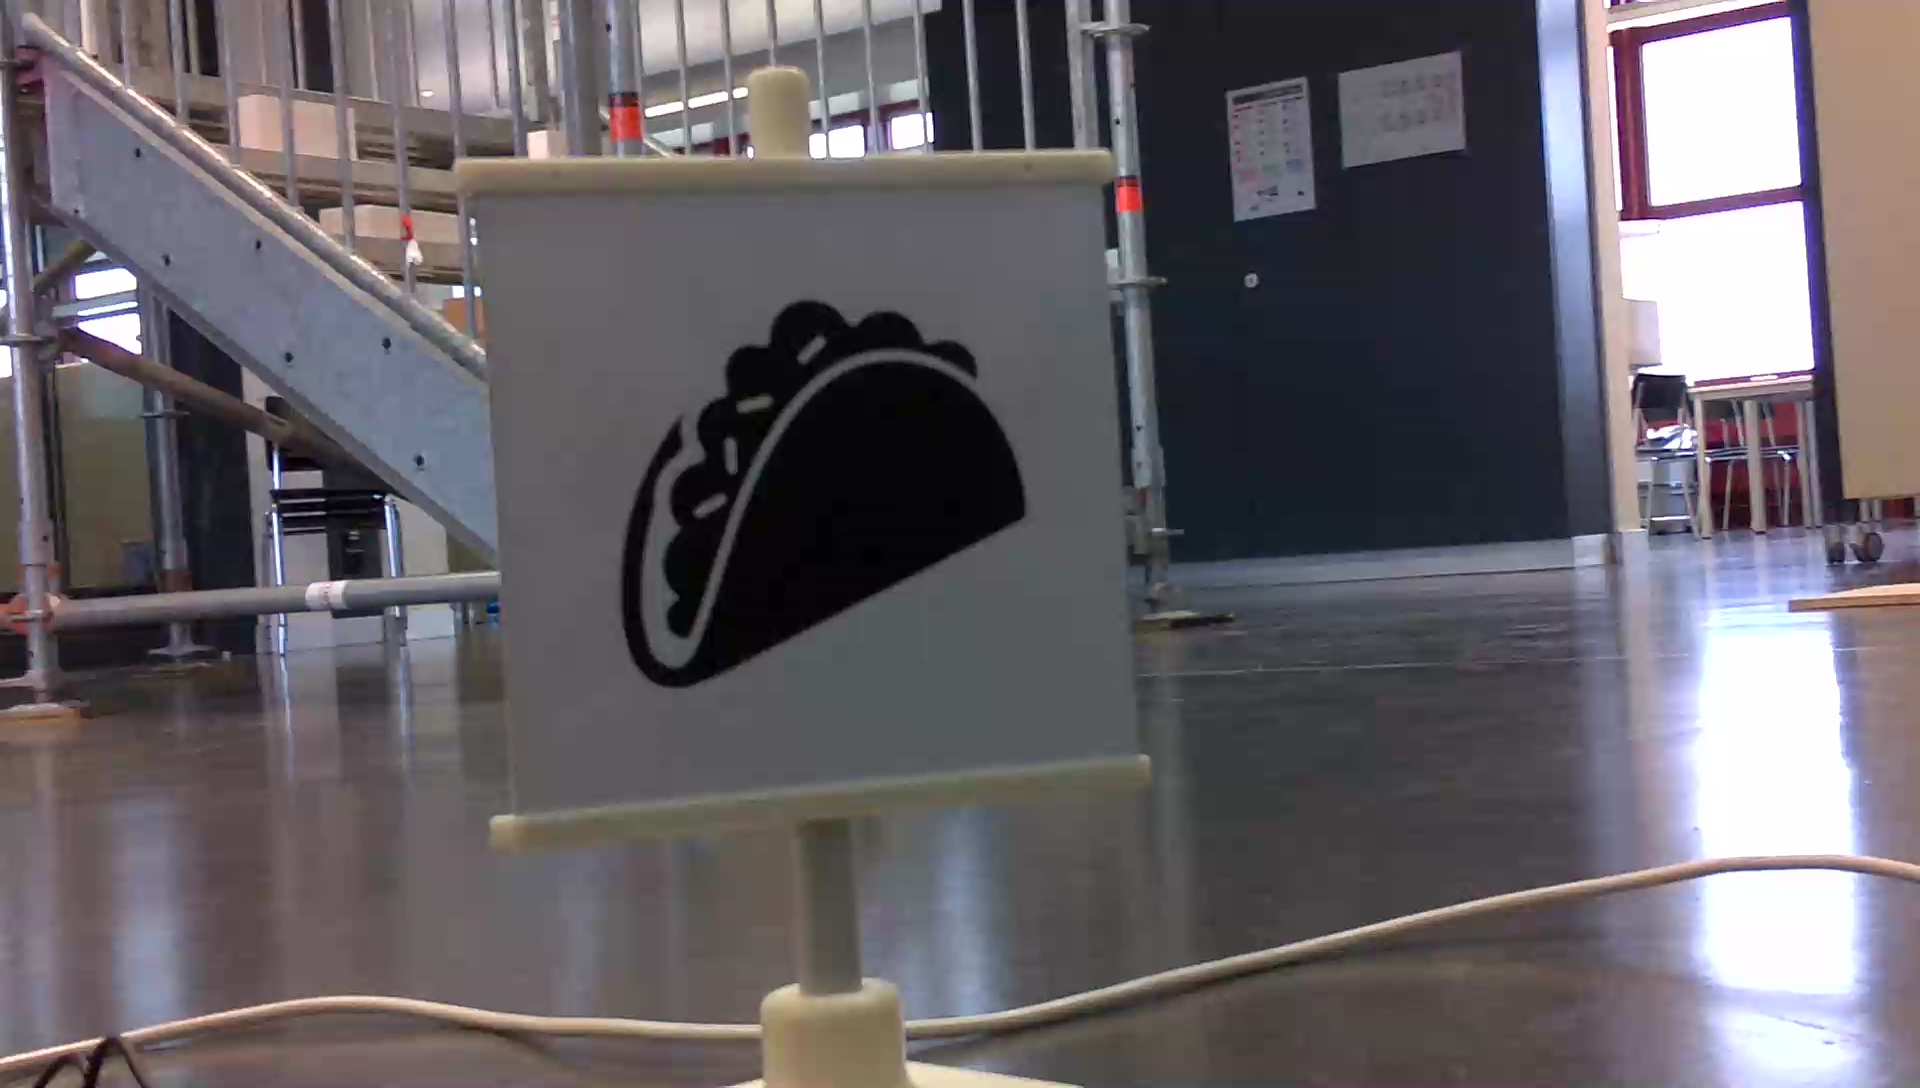taco: (605, 290, 1043, 698)
